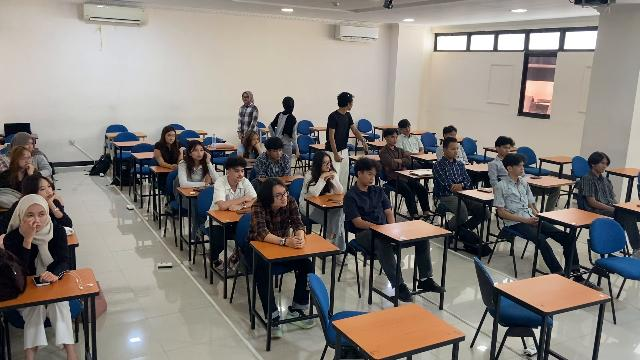fokus: (26, 210, 46, 230), (38, 181, 53, 201), (273, 187, 287, 206), (18, 153, 32, 171), (363, 169, 375, 186), (231, 166, 244, 181), (449, 141, 459, 159), (597, 157, 608, 173), (192, 146, 204, 160), (514, 161, 524, 176), (23, 139, 34, 152), (271, 147, 282, 160), (322, 158, 331, 172), (501, 144, 511, 156), (389, 133, 398, 146), (165, 133, 176, 143), (250, 135, 259, 146), (402, 124, 411, 135), (448, 130, 457, 140)
